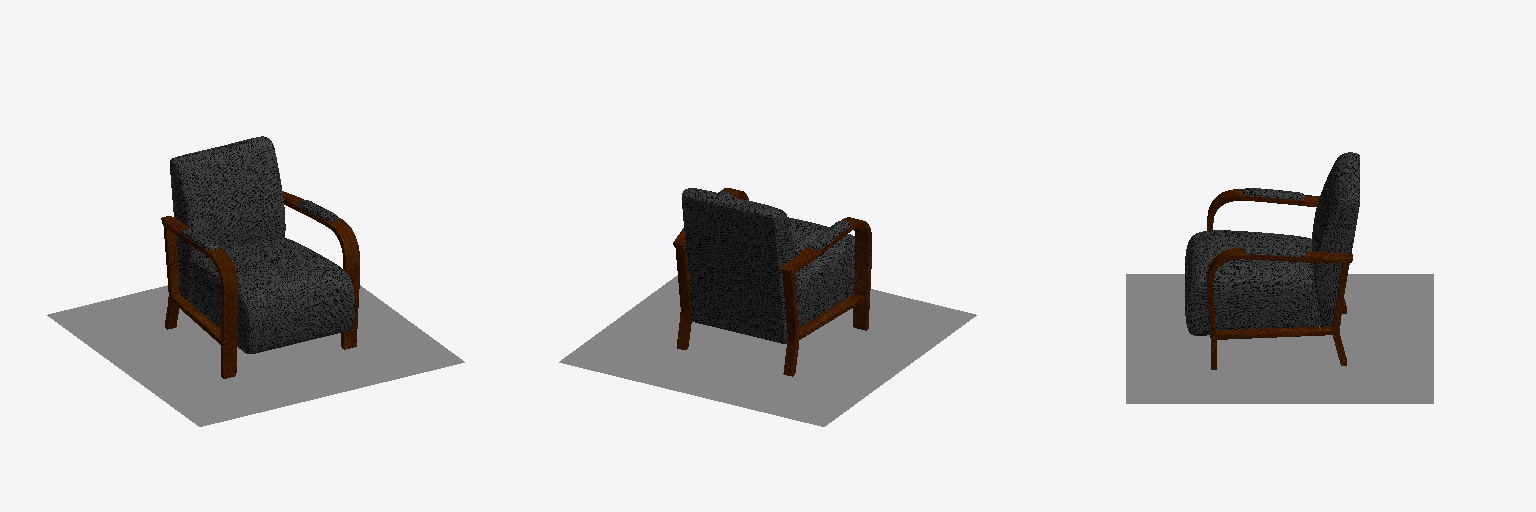
3 views of the same model, side by side, from view 1: azimuth 30°, elevation 25°; view 2: azimuth 150°, elevation 25°; view 3: azimuth 270°, elevation 25° (orthographic).
Parts seen in each view (by area): view 1: shadow_plane_v6, not_clear_obj_0_v6, not_clear_obj_1_v6; view 2: shadow_plane_v6, not_clear_obj_0_v6, not_clear_obj_1_v6; view 3: shadow_plane_v6, not_clear_obj_0_v6, not_clear_obj_1_v6.
Boxes of the visible parts, box(x1,y1,x2,y2) form: shadow_plane_v6: box(47, 250, 464, 426); not_clear_obj_0_v6: box(170, 136, 354, 353); not_clear_obj_1_v6: box(161, 191, 359, 378); shadow_plane_v6: box(559, 275, 976, 426); not_clear_obj_0_v6: box(682, 188, 854, 343); not_clear_obj_1_v6: box(673, 188, 871, 376); shadow_plane_v6: box(1126, 274, 1433, 403); not_clear_obj_0_v6: box(1185, 152, 1359, 335); not_clear_obj_1_v6: box(1207, 189, 1352, 369).
Bounding box in the file's own units: 140 × 83.18 × 140.
3 materials, 2 textured.